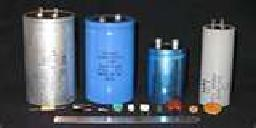Electrolytic-Capacitor: (19, 7, 79, 109), (85, 14, 137, 105), (198, 16, 237, 107), (145, 34, 188, 101)
